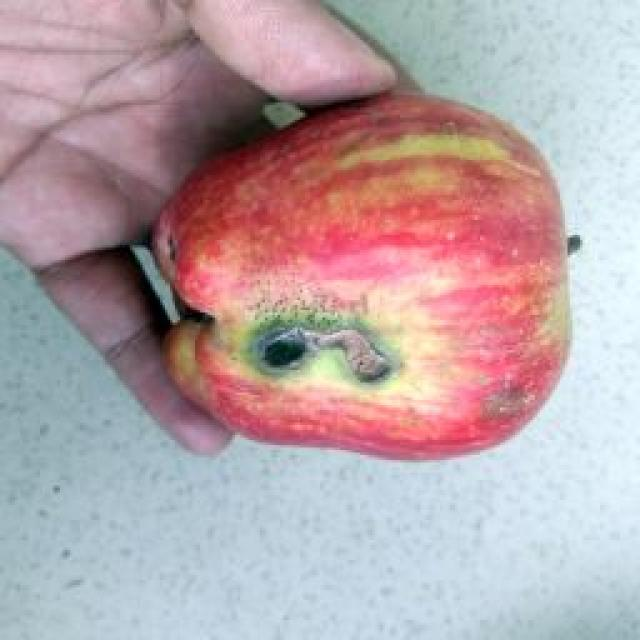Bad_Apple: (152, 94, 569, 458)
